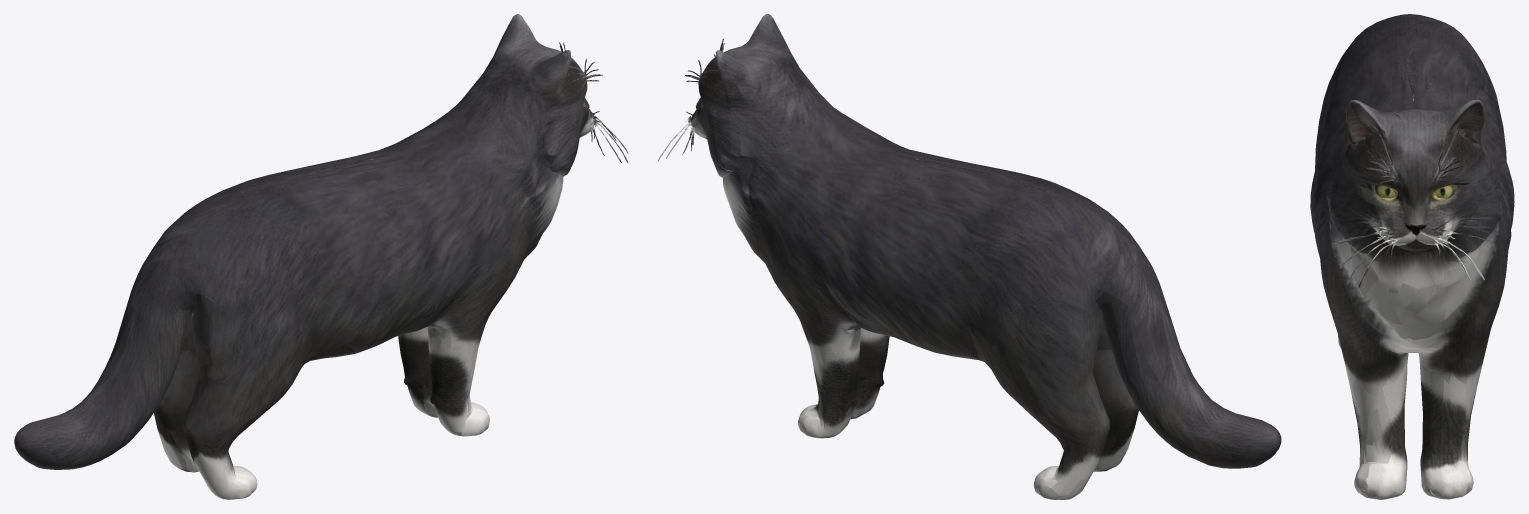
The model's file is MUSTACHCAT.glb.
3 views of the same model, side by side, from view 1: azimuth 30°, elevation 25°; view 2: azimuth 150°, elevation 25°; view 3: azimuth 270°, elevation 25° (orthographic). The views are drawn at different scales.
Visible parts, largest first — view 1: fit; view 2: fit; view 3: fit.
Boxes of the visible parts, <box> form: fit: <box>14,14,628,499</box>; fit: <box>657,14,1281,499</box>; fit: <box>1310,14,1514,499</box>.
Bounding box in the file's own units: 1.69 × 1 × 0.4163.
Materials: 1 (1 with a texture image).
